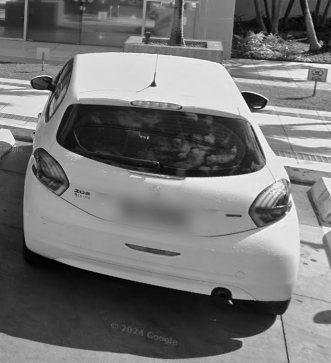car: (21, 49, 300, 317)
